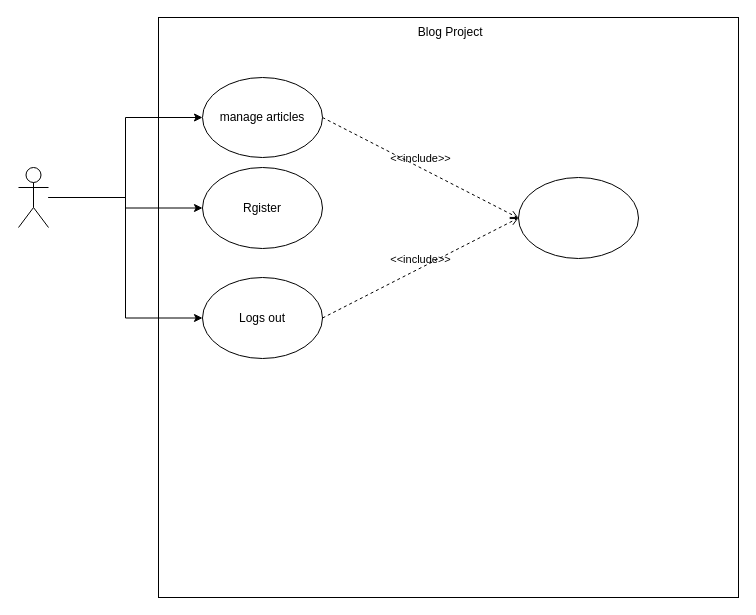
Image size: 756x615. Some labels were removed from this diagram. The centre of each missing label's shape, as x and y in pixels:
"logdin" goes at (578,217).
"USER" goes at (33,197).
